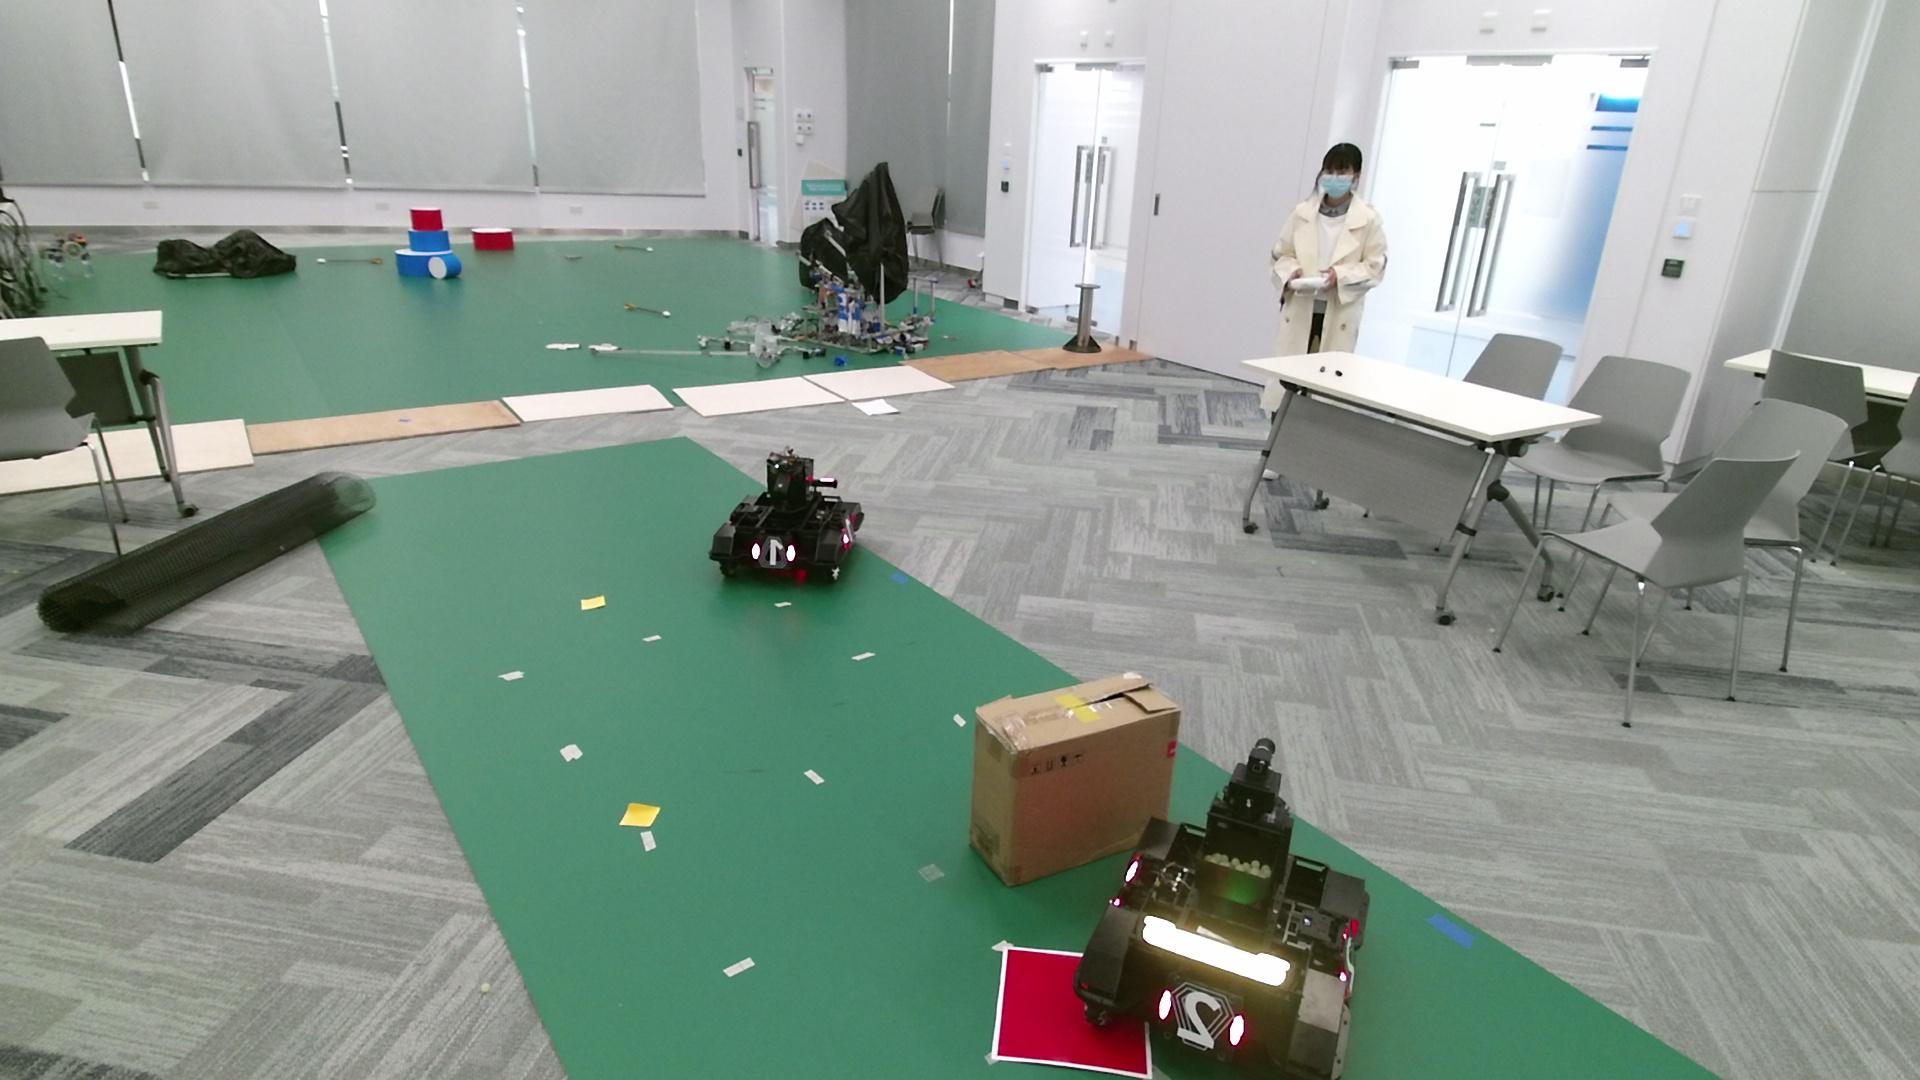robot: (1073, 737, 1370, 1080), (708, 451, 865, 582)
